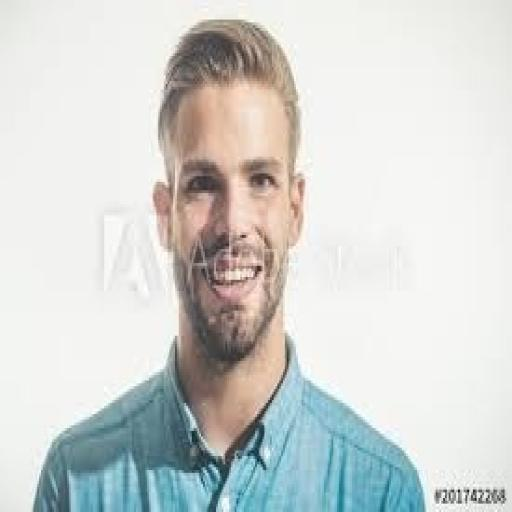laughing: (30, 12, 428, 506)
